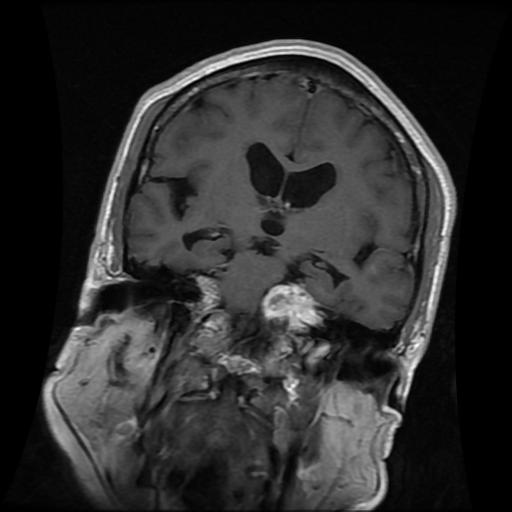Menigiomia_tumour: (265, 282, 324, 330)
